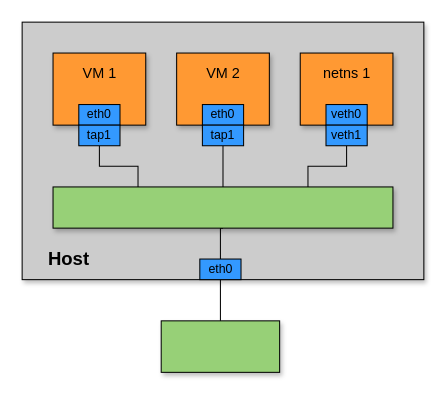
Some shapes in this 448 by 398 pixel diagram are drawn without their labels. Each missing label, with the centre of its shape:
"br0" belongs at point 223,208.
"switch" belongs at point 221,348.
